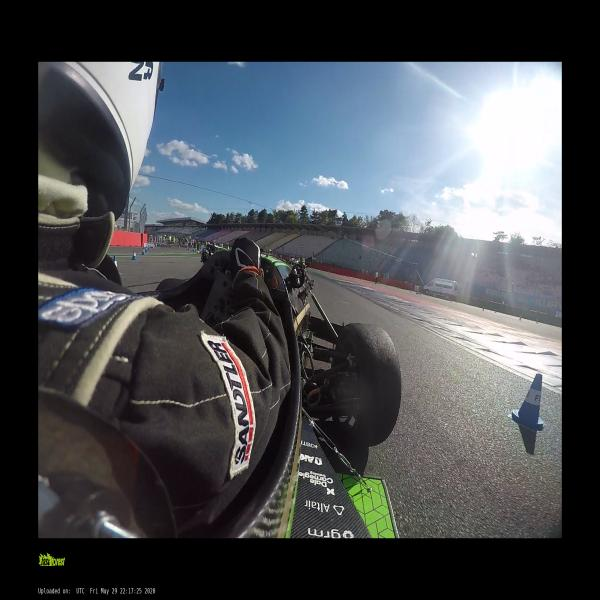blue_cone: (510, 372, 546, 430), (131, 249, 137, 260), (114, 256, 118, 267), (141, 247, 145, 255), (144, 245, 148, 252), (147, 245, 150, 250), (153, 245, 155, 249), (155, 244, 157, 247)
yellow_cone: (519, 316, 521, 321), (482, 306, 484, 310), (450, 299, 452, 303)
